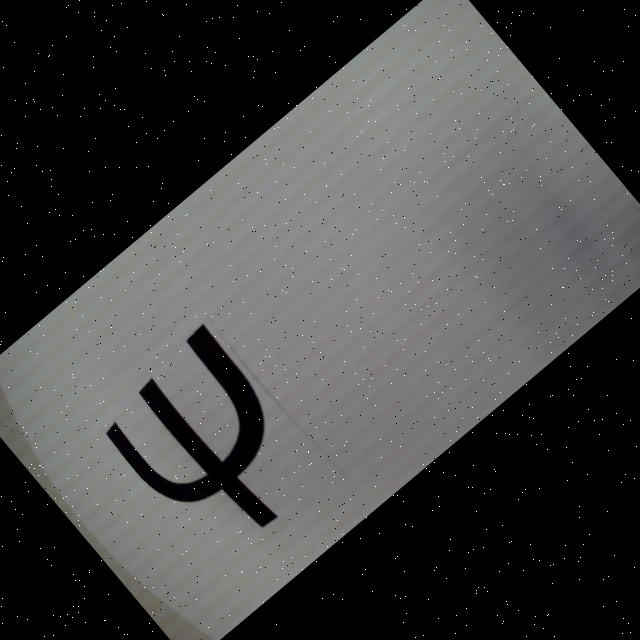PSI: (89, 320, 332, 569)
